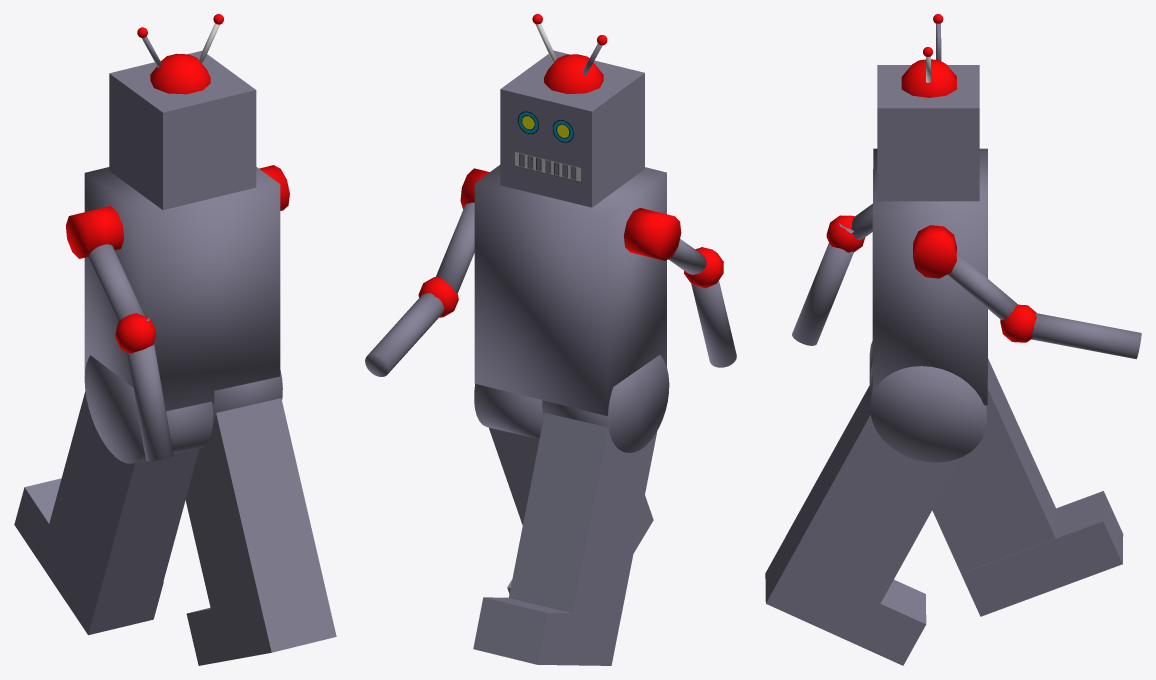
The model's file is roboto.dae.
3 views of the same model, side by side, from view 1: azimuth 30°, elevation 25°; view 2: azimuth 150°, elevation 25°; view 3: azimuth 270°, elevation 25° (orthographic). The views are drawn at different scales.
Visible parts, largest first — view 1: Polygon; view 2: Polygon; view 3: Polygon.
Part boxes in pixels (x1,y1,x2,y2): Polygon: (14,14,336,665); Polygon: (365,14,736,665); Polygon: (765,14,1141,665).
Bounding box in the file's own units: 45.68 × 130 × 73.37.
